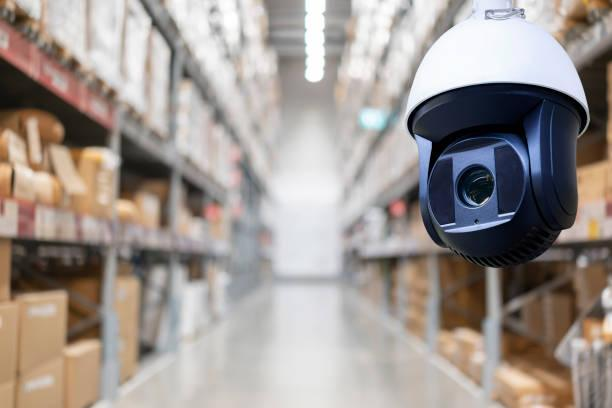camera: (383, 0, 612, 280)
